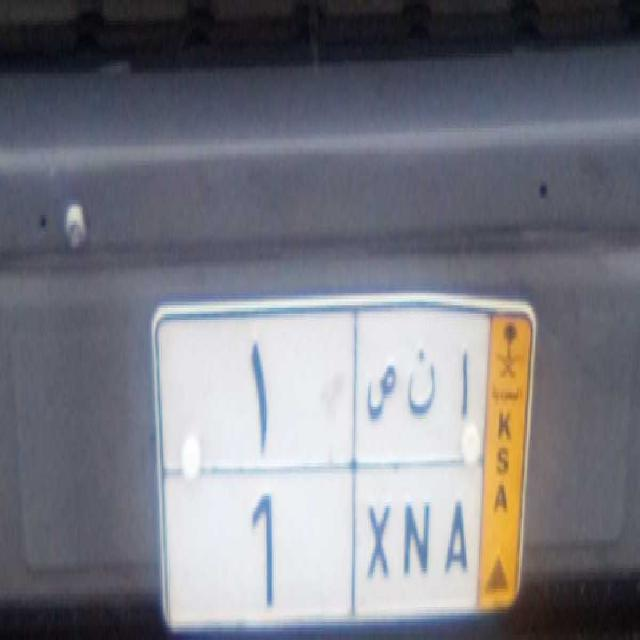license_plate: (163, 450, 481, 637)
